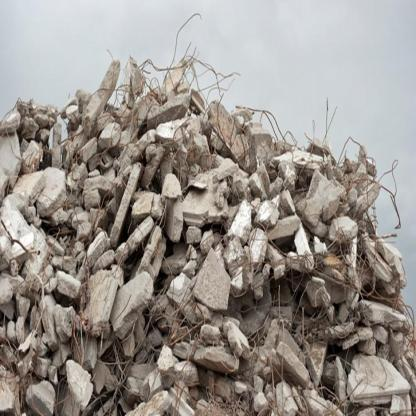brick: (0, 56, 416, 415)
